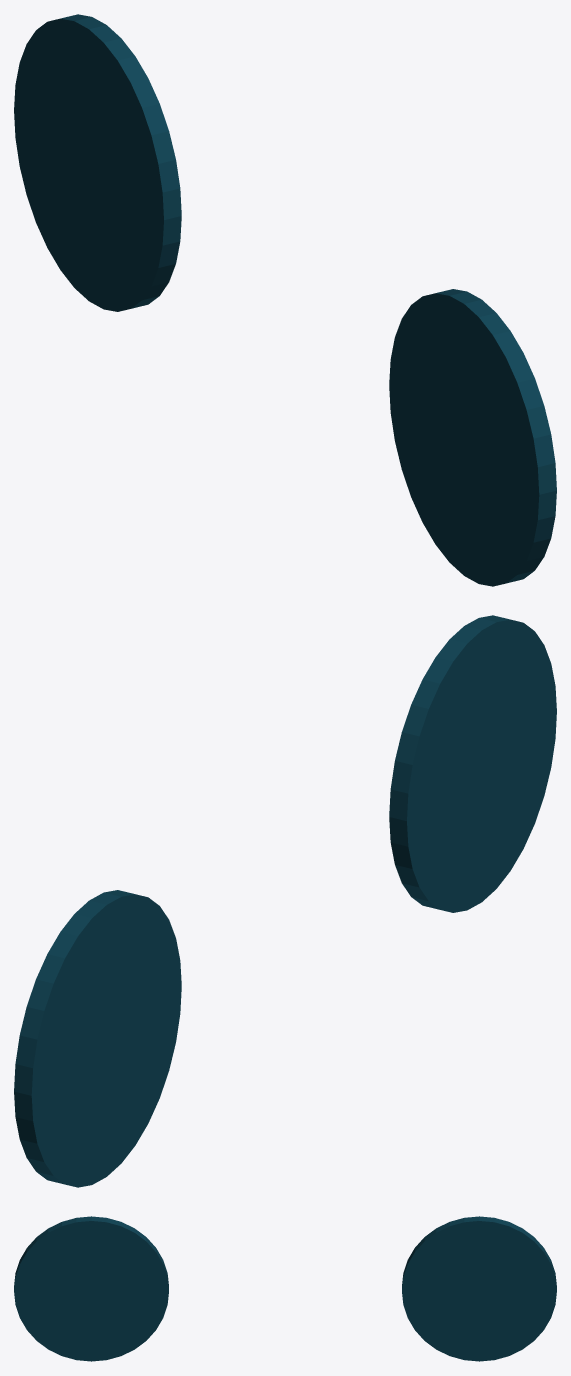
The model's file is base_link__lens.dae.
3 renders of one model, top to bottom at view 1: azimuth 30°, elevation 25°; view 2: azimuth 150°, elevation 25°; view 3: azimuth 270°, elevation 25°, orthographic. The views are drawn at different scales.
Visible parts, largest first — view 1: mesh0-node, mesh1-node; view 2: mesh0-node, mesh1-node; view 3: mesh0-node, mesh1-node.
Boxes of the visible parts, bbox=[...] form: mesh0-node: bbox=[389, 289, 556, 586]; mesh1-node: bbox=[14, 14, 181, 311]; mesh0-node: bbox=[389, 615, 556, 912]; mesh1-node: bbox=[14, 890, 181, 1187]; mesh0-node: bbox=[14, 1216, 168, 1361]; mesh1-node: bbox=[402, 1216, 556, 1361].
Size of the model in its own units: 0.003 by 0.154 by 0.044.
